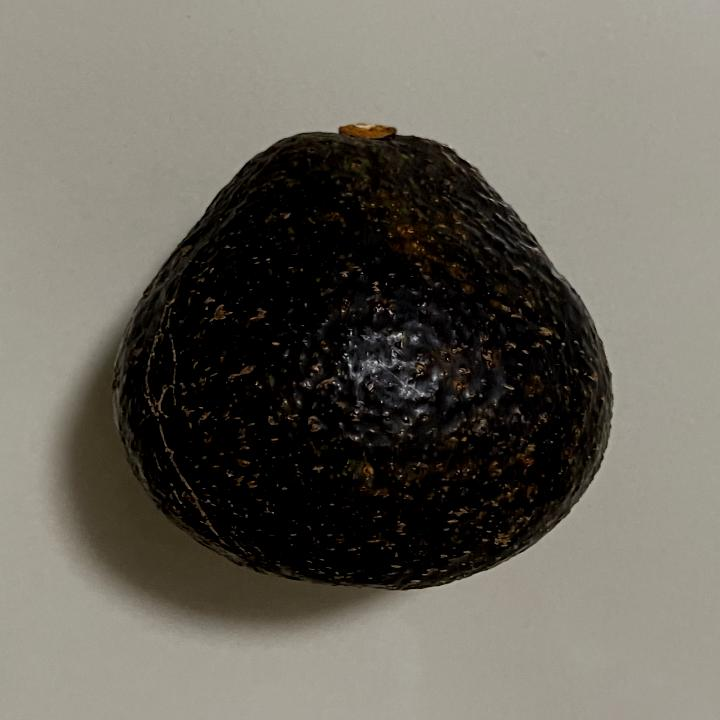Level2: (104, 122, 626, 598)
